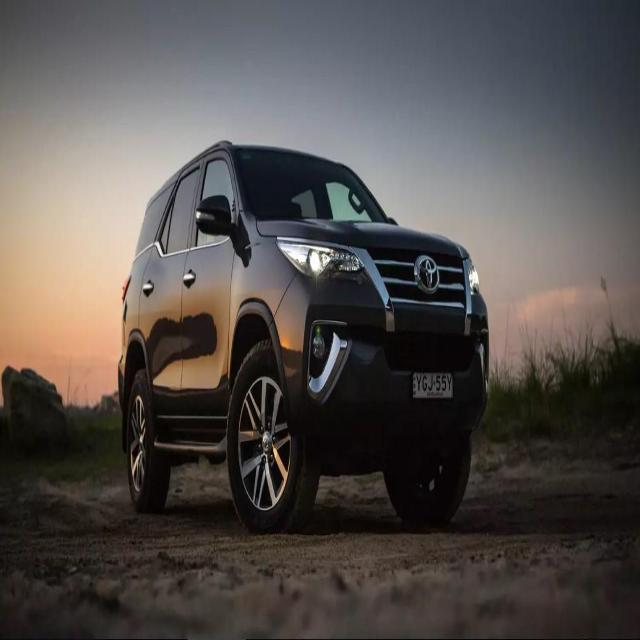light_vehicle: (117, 141, 490, 536)
